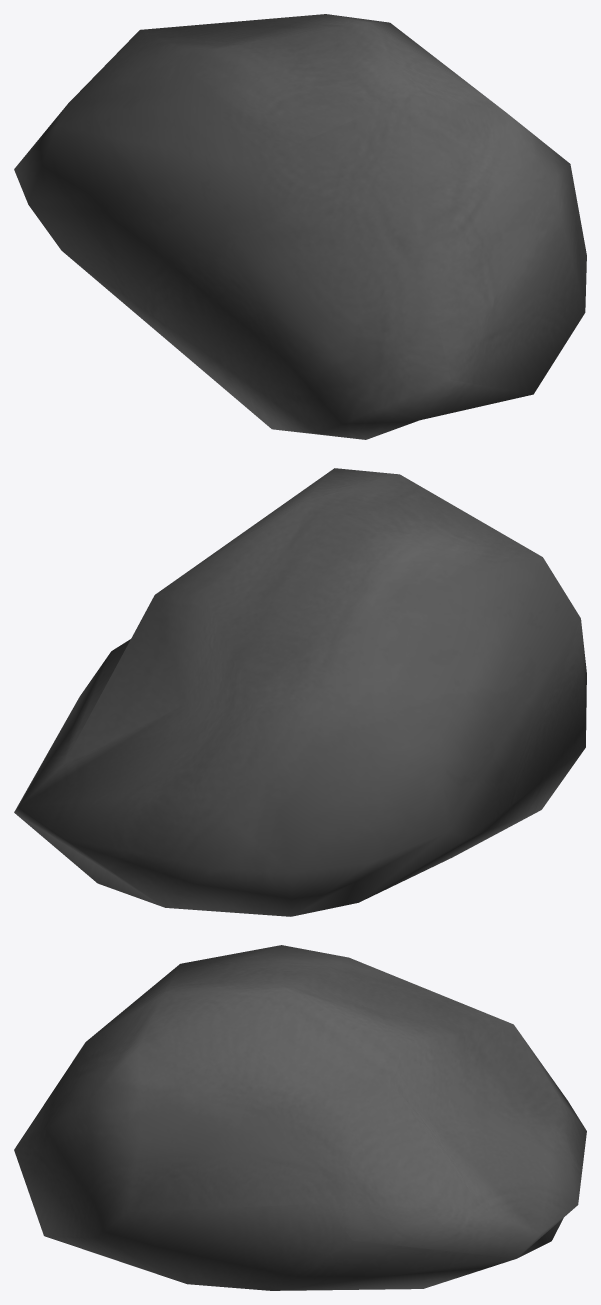
The model's file is Rock03.FBX.
3 renders of one model, top to bottom at view 1: azimuth 30°, elevation 25°; view 2: azimuth 150°, elevation 25°; view 3: azimuth 270°, elevation 25°, orthographic. The views are drawn at different scales.
Visible parts, largest first — view 1: Rock03; view 2: Rock03; view 3: Rock03.
Boxes of the visible parts, <box> form: Rock03: <box>14,14,586,439</box>; Rock03: <box>14,468,586,916</box>; Rock03: <box>14,945,586,1290</box>.
Size of the model in its own units: 68.63 by 48.98 by 95.07.
